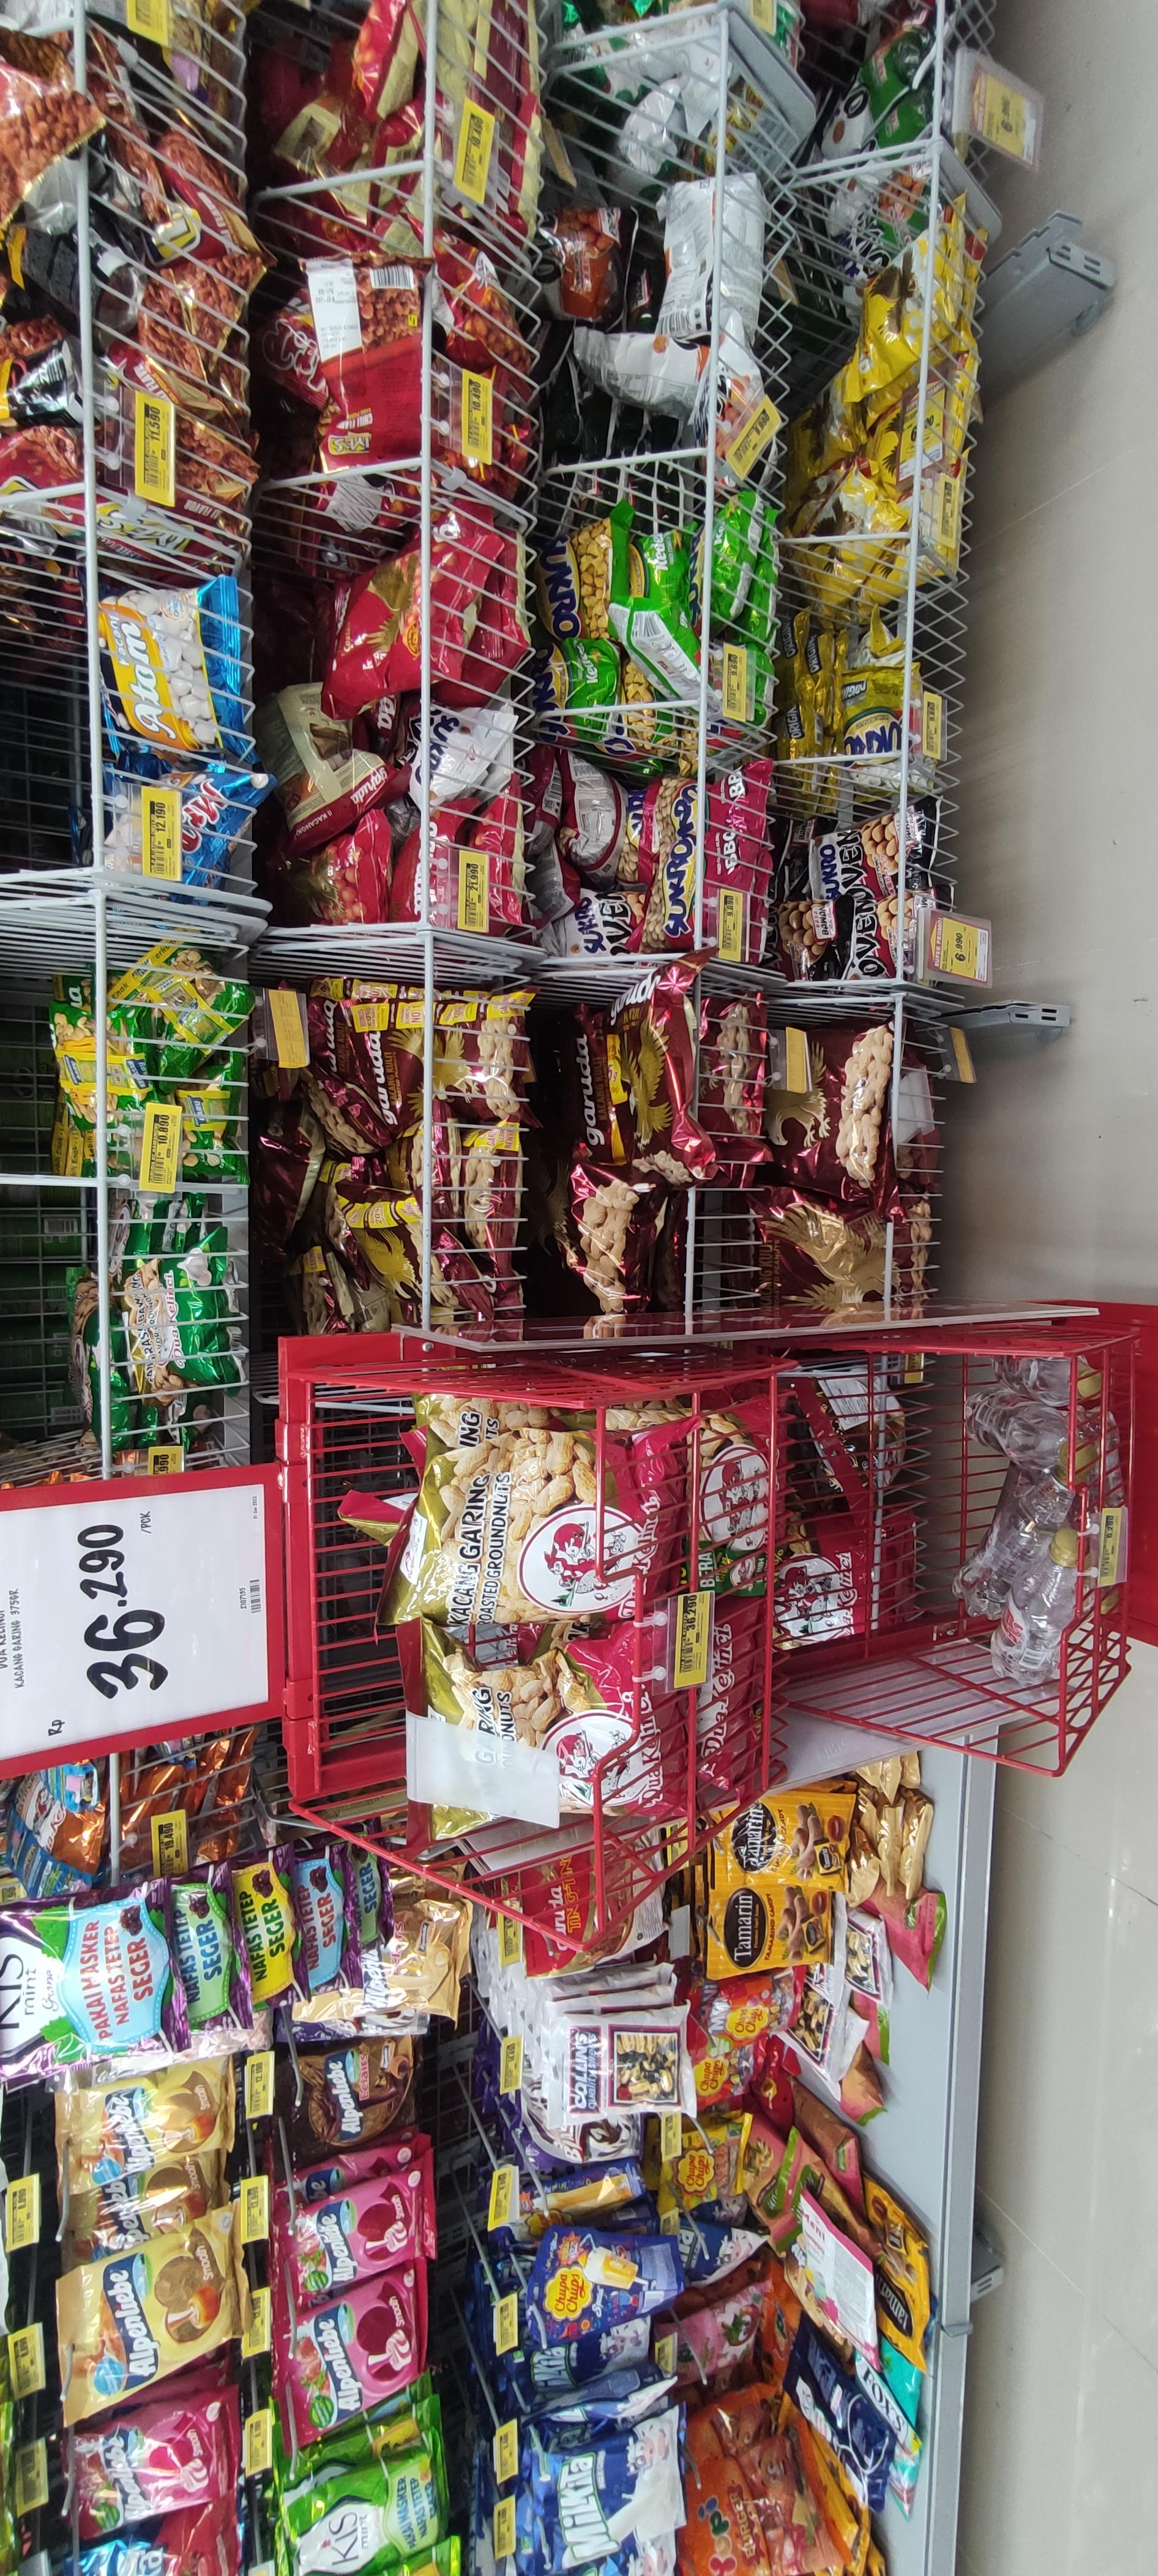90101112103100: (347, 992, 540, 1122)
KacangGaringDuaKelinci: (378, 1424, 692, 1625)
